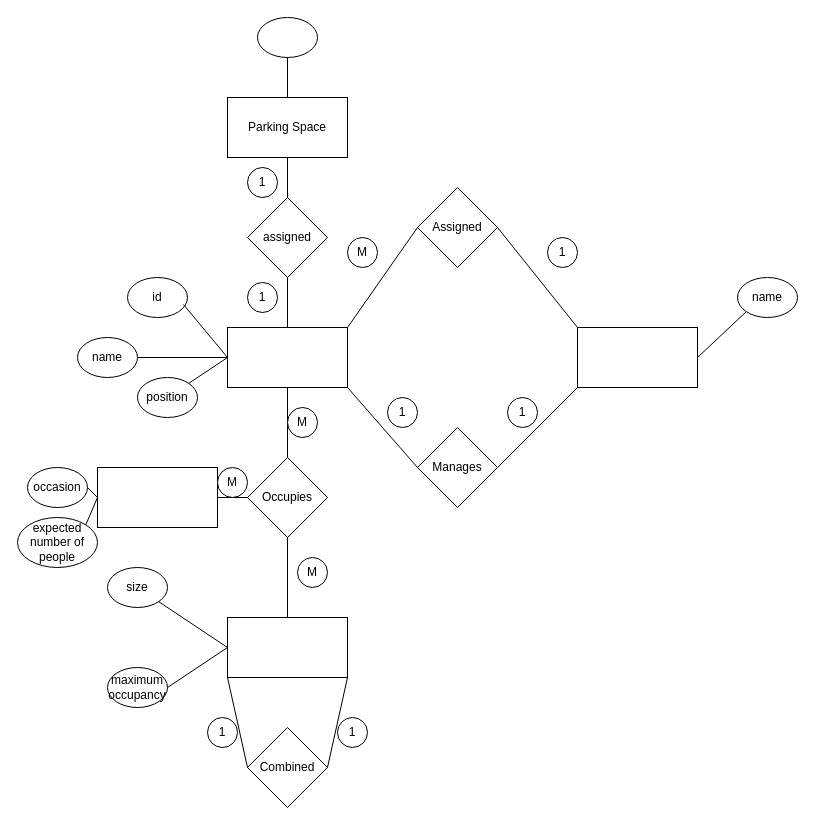
This 815x825 diagram has some shape labels left out. Each missing label, with the centre of its shape:
"Department" belongs at [637,357].
"Employee" belongs at [287,357].
"Meeting Room" belongs at [287,647].
"plate number" belongs at [287,37].
"Timeslot" belongs at [157,497].
